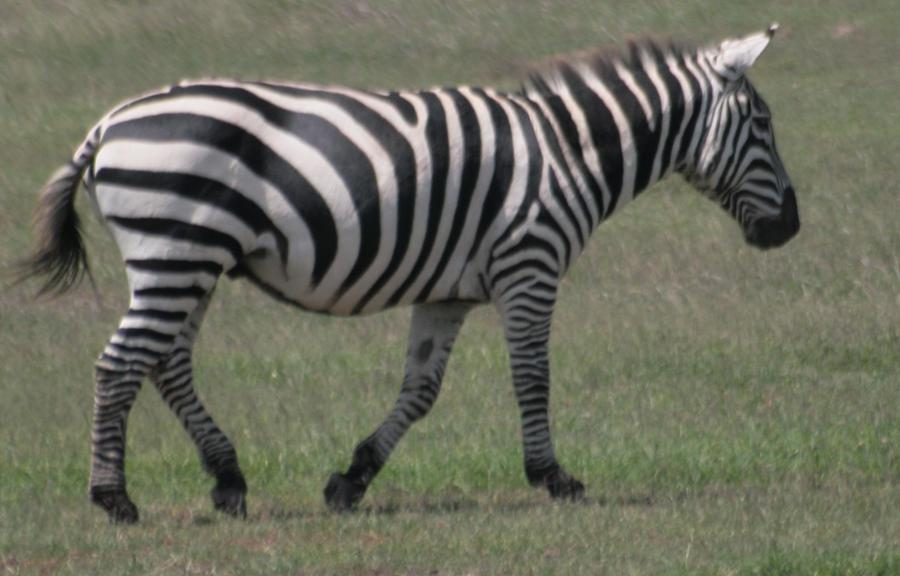zebra_plains: (71, 44, 611, 328)
